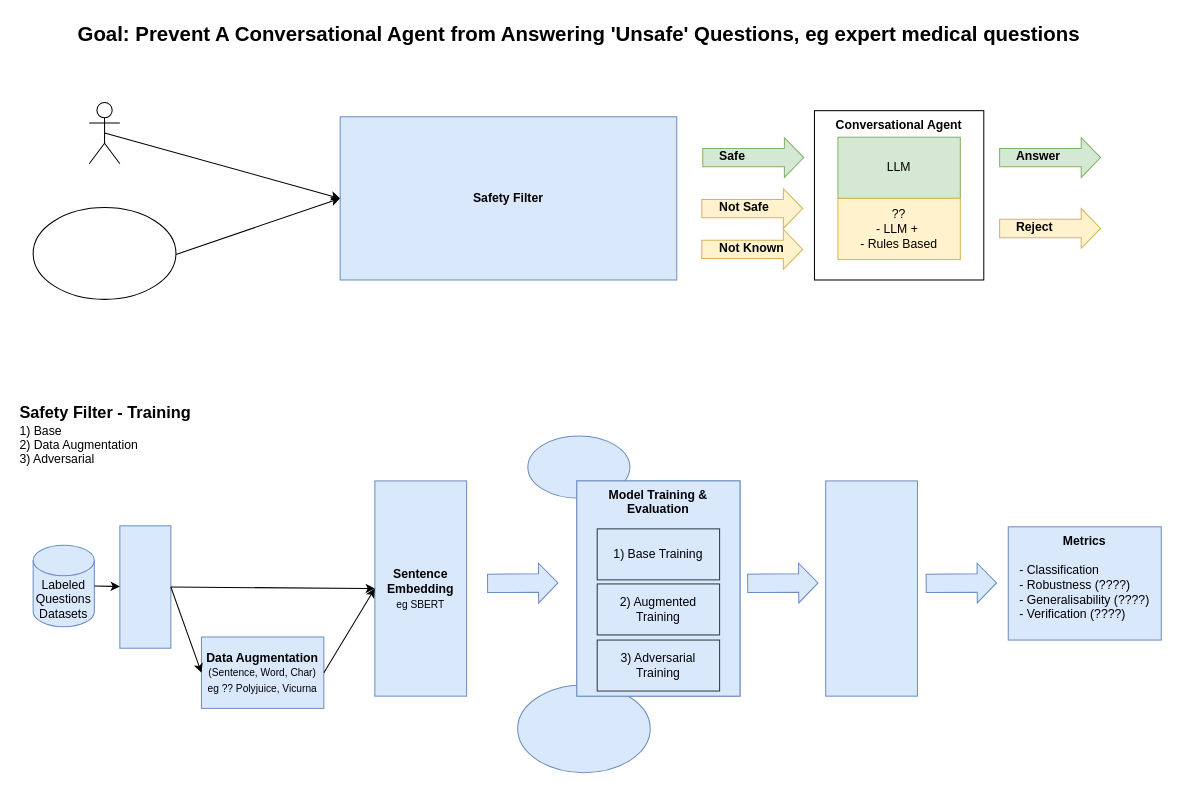
The diagram is 1179 pixels wide and 791 high, and some of its shapes have lost their labels. The centre of each missing label's shape, as x and y in pixels:
"Actor" belongs at (104,132).
"Adversarial Attacks - ?? Subspace - PGD" belongs at (583,728).
"Attacks - Data Augmentation - ?? Adversarial" belongs at (104,253).
"Dataset Prep" belongs at (145,586).
"NN Model" belongs at (578,466).
"Verification eg ERAN, MARABU, CORA" belongs at (871,588).
